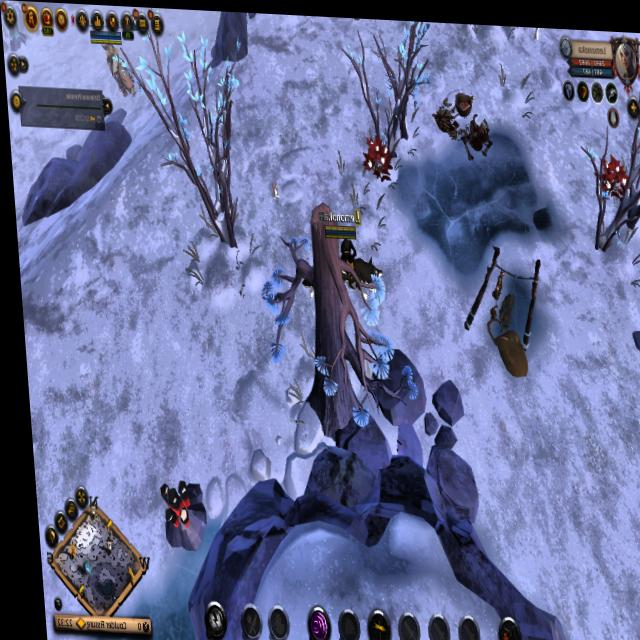fiber tier 5: (358, 128, 392, 183), (594, 147, 630, 196)
ore tier 5: (152, 474, 200, 554)
